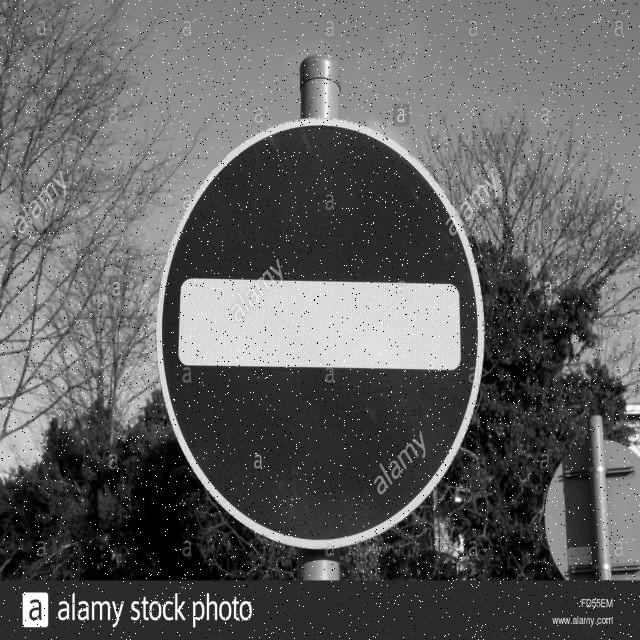no entry: (156, 120, 485, 542)
